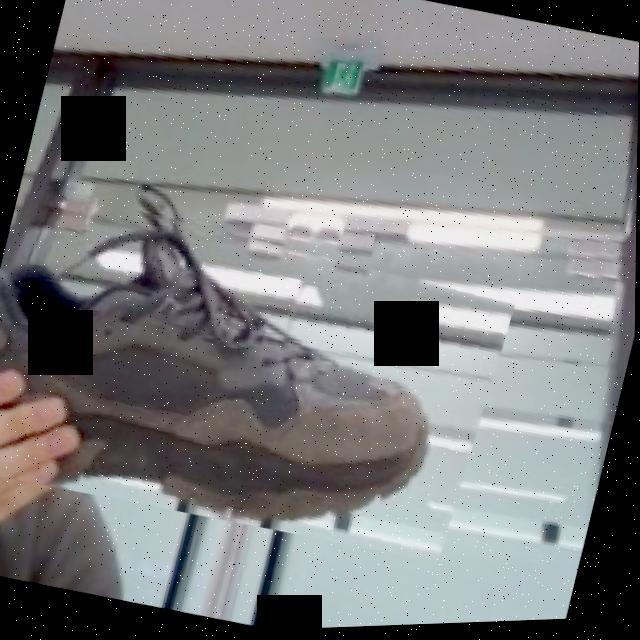shoe: (0, 166, 523, 581)
